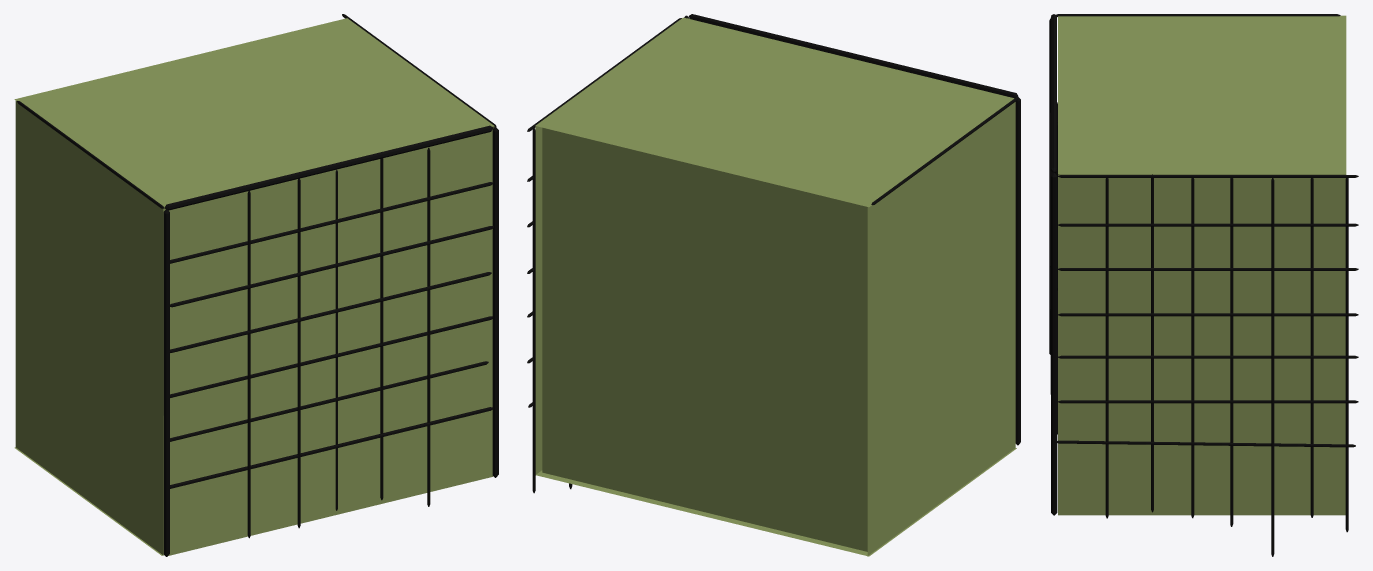
Rendered from Haus.fbx.
The picture shows the model from 3 angles, left to right: view 1: azimuth 30°, elevation 25°; view 2: azimuth 150°, elevation 25°; view 3: azimuth 270°, elevation 25°; orthographic projection. The views are drawn at different scales.
Visible parts, largest first — view 1: NewLayer1; view 2: NewLayer1; view 3: NewLayer1.
Part boxes in pixels (left/top/right/bottom): NewLayer1: left=14, top=14, right=498, bottom=556; NewLayer1: left=527, top=14, right=1020, bottom=556; NewLayer1: left=1049, top=14, right=1358, bottom=556.
Bounding box in the file's own units: 4.08 × 4.55 × 3.32.
